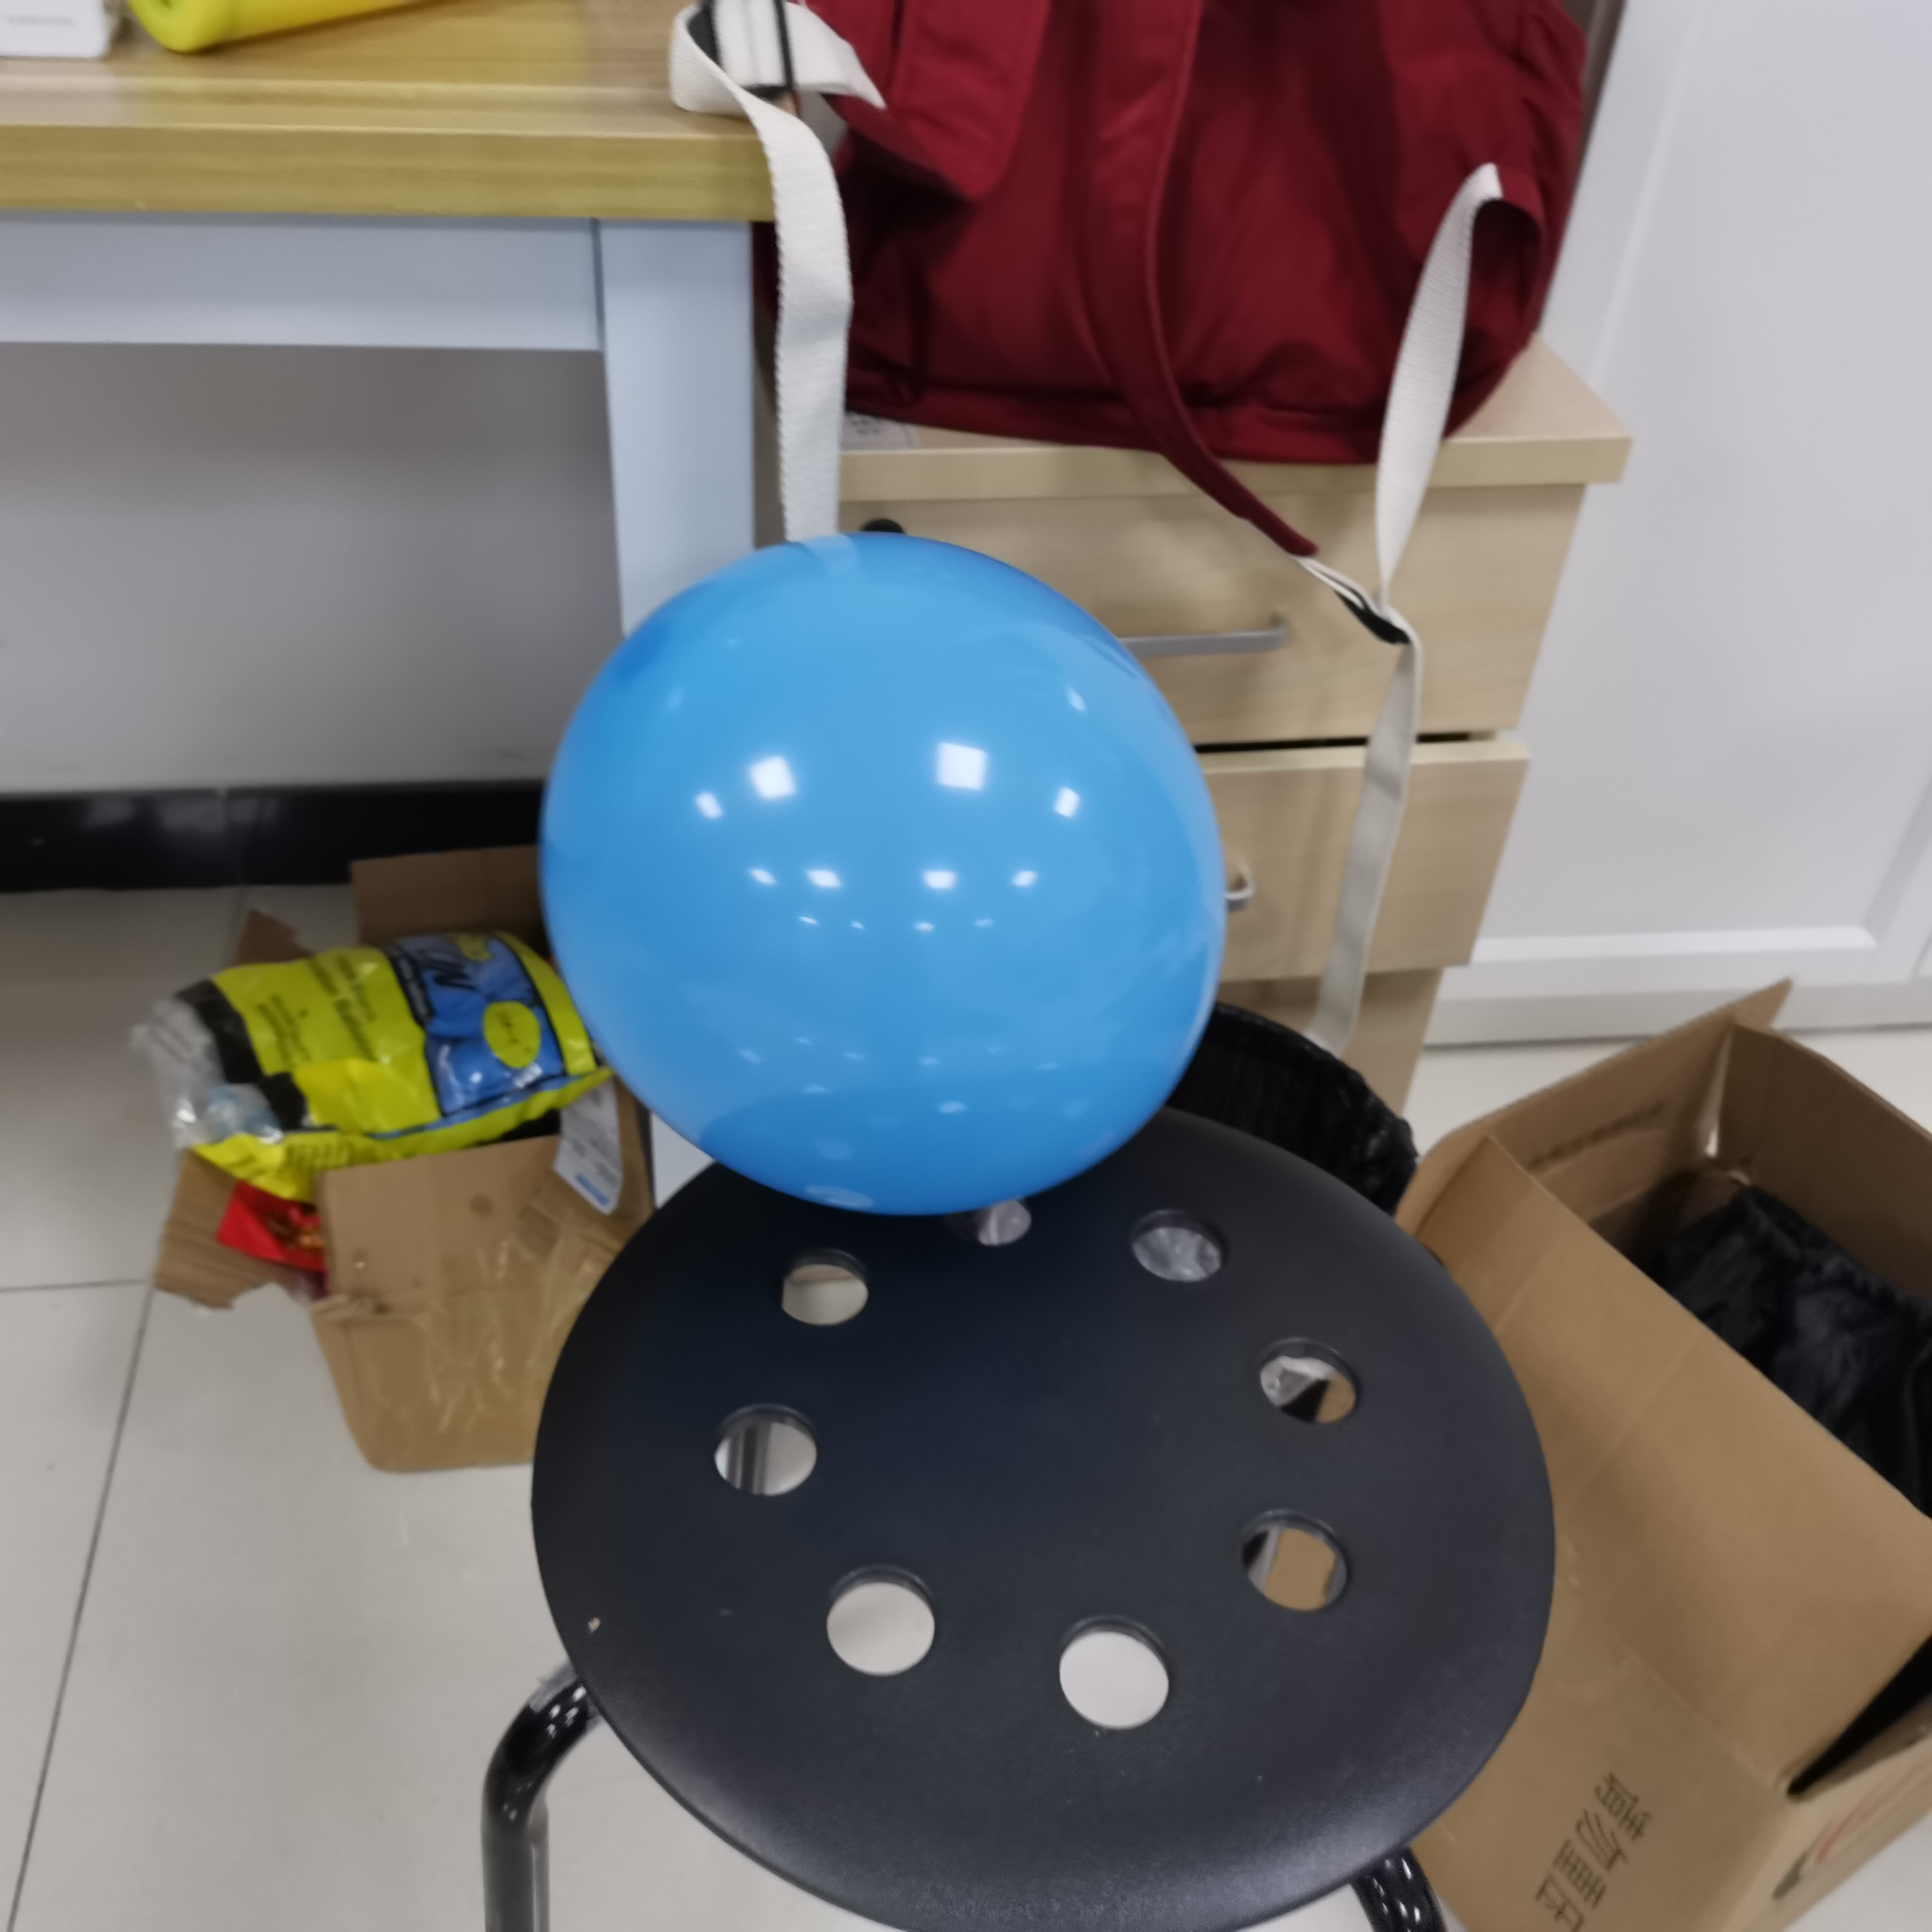balloon: (543, 531, 1237, 1212)
